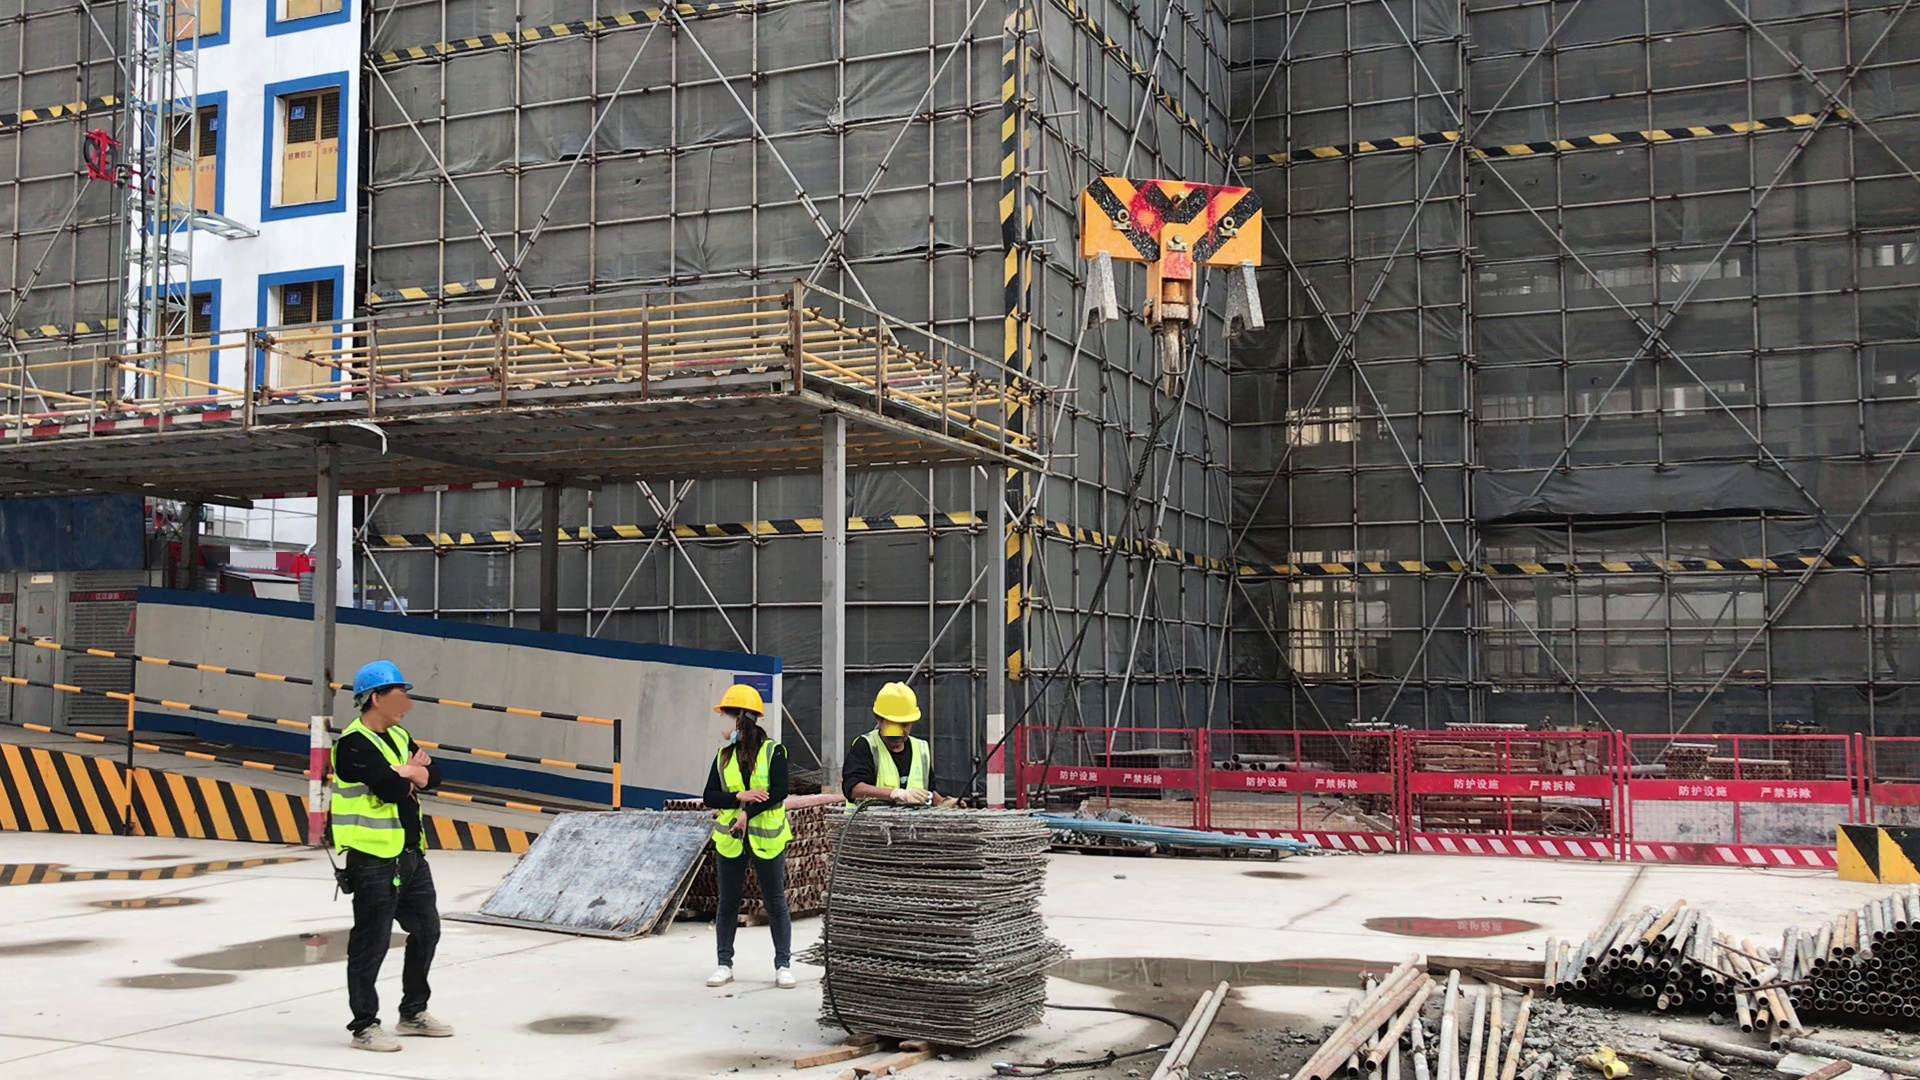fence: (1288, 719, 1830, 875), (10, 634, 297, 787), (1073, 717, 1285, 828), (437, 682, 615, 812)
helmet: (351, 664, 419, 708), (873, 685, 925, 724), (715, 687, 764, 719)
hook: (1071, 174, 1271, 398)
person: (321, 661, 459, 1057), (691, 678, 803, 1000), (843, 680, 951, 806)
scaffold: (1537, 900, 1752, 1023), (1756, 885, 1920, 1032)
slogan: (88, 591, 124, 604)
vest: (332, 720, 429, 864), (708, 739, 791, 869), (847, 730, 937, 802)
